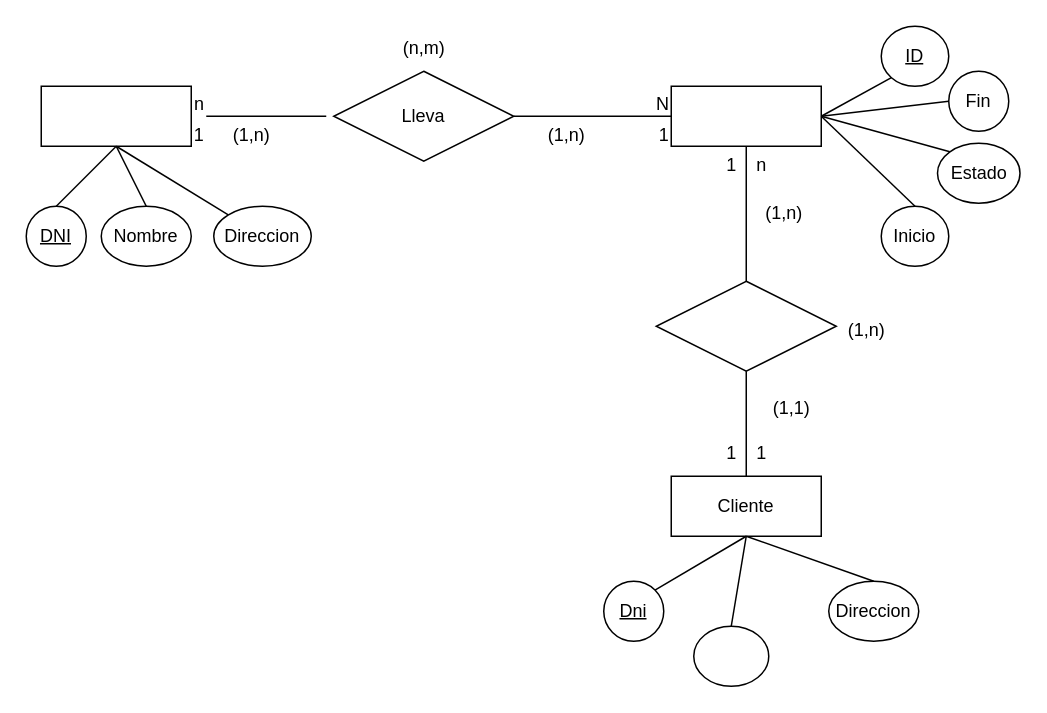
This 1047x713 diagram has some shape labels left out. Each missing label, with the centre of its shape:
Asunto: [745,115]
Corresponde: [745,325]
Nobre: [730,655]
Procurador: [115,115]
